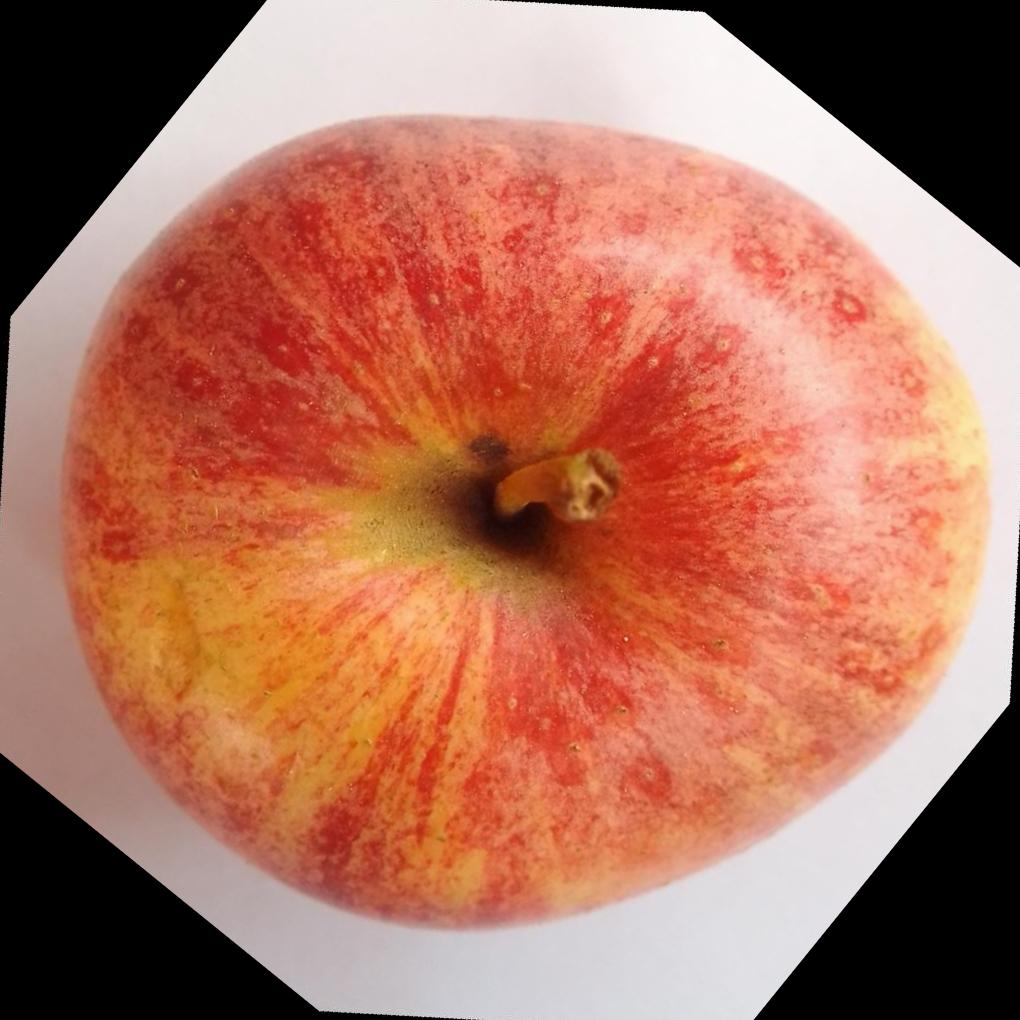FreshGuava: (59, 112, 996, 934)
